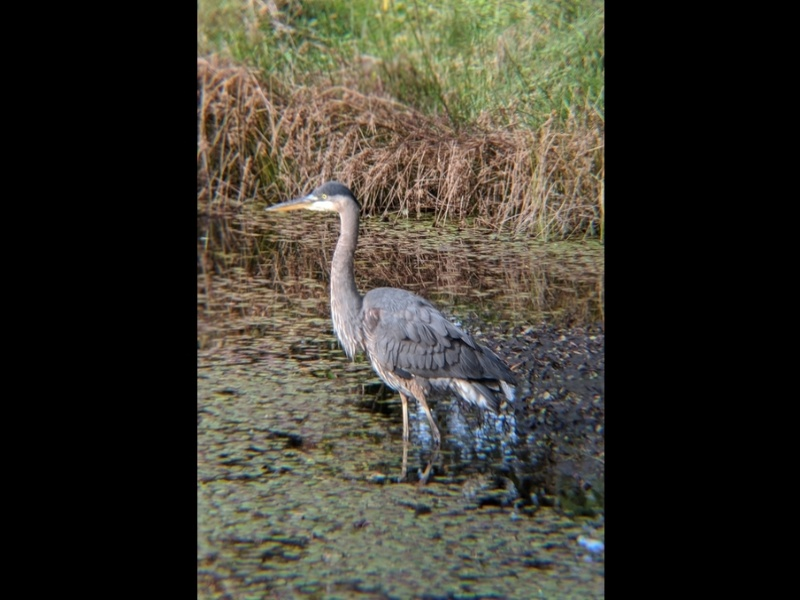heron: (262, 176, 522, 481)
